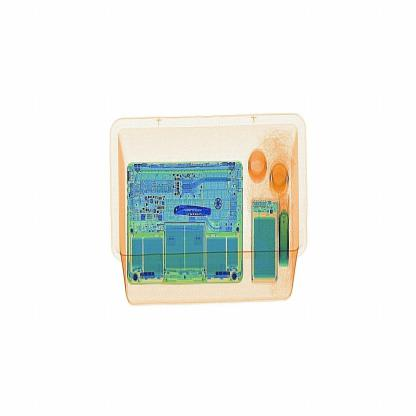knife: (164, 201, 219, 231)
